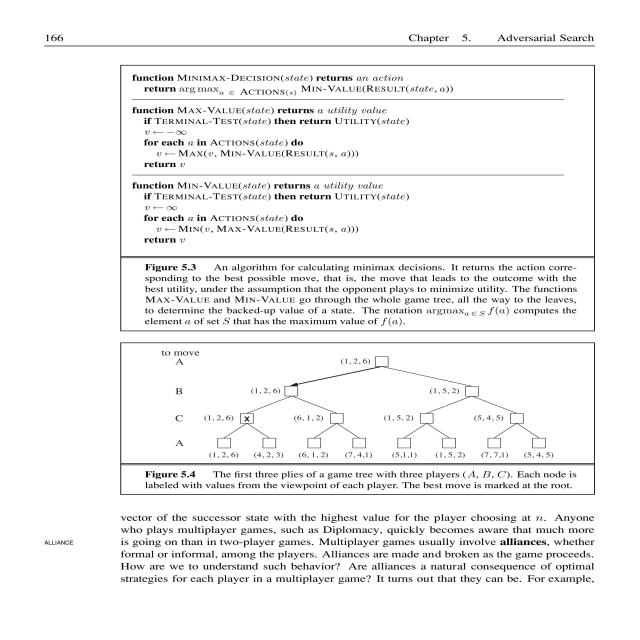diagram: (120, 345, 602, 493)
